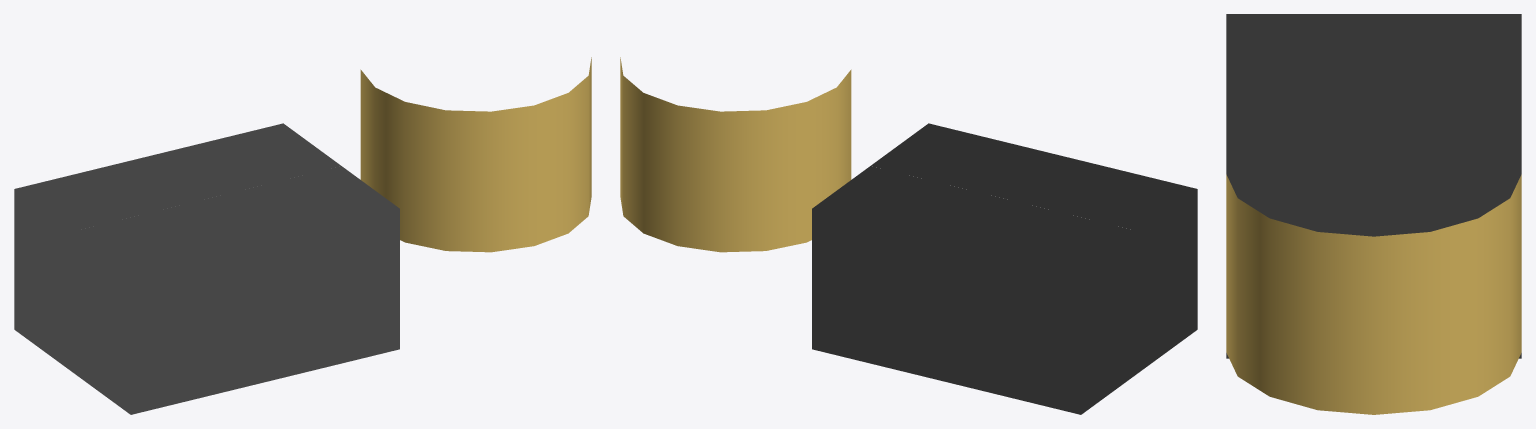
Rendered from timer_555.glb.
3 renders of one model, left to right at view 1: azimuth 30°, elevation 25°; view 2: azimuth 150°, elevation 25°; view 3: azimuth 270°, elevation 25°, orthographic. The views are drawn at different scales.
Parts seen in each view (by area): view 1: NE555TimerIC, PotentiometerKnob; view 2: NE555TimerIC, PotentiometerKnob; view 3: NE555TimerIC, PotentiometerKnob.
Part boxes in pixels (x1,y1,x2,y2): NE555TimerIC: (14,123,399,414); PotentiometerKnob: (360,57,591,252); NE555TimerIC: (812,123,1197,414); PotentiometerKnob: (620,57,851,252); NE555TimerIC: (1226,14,1521,358); PotentiometerKnob: (1226,174,1521,414).
Size of the model in its own units: 1.5 by 0.6 by 0.6.
